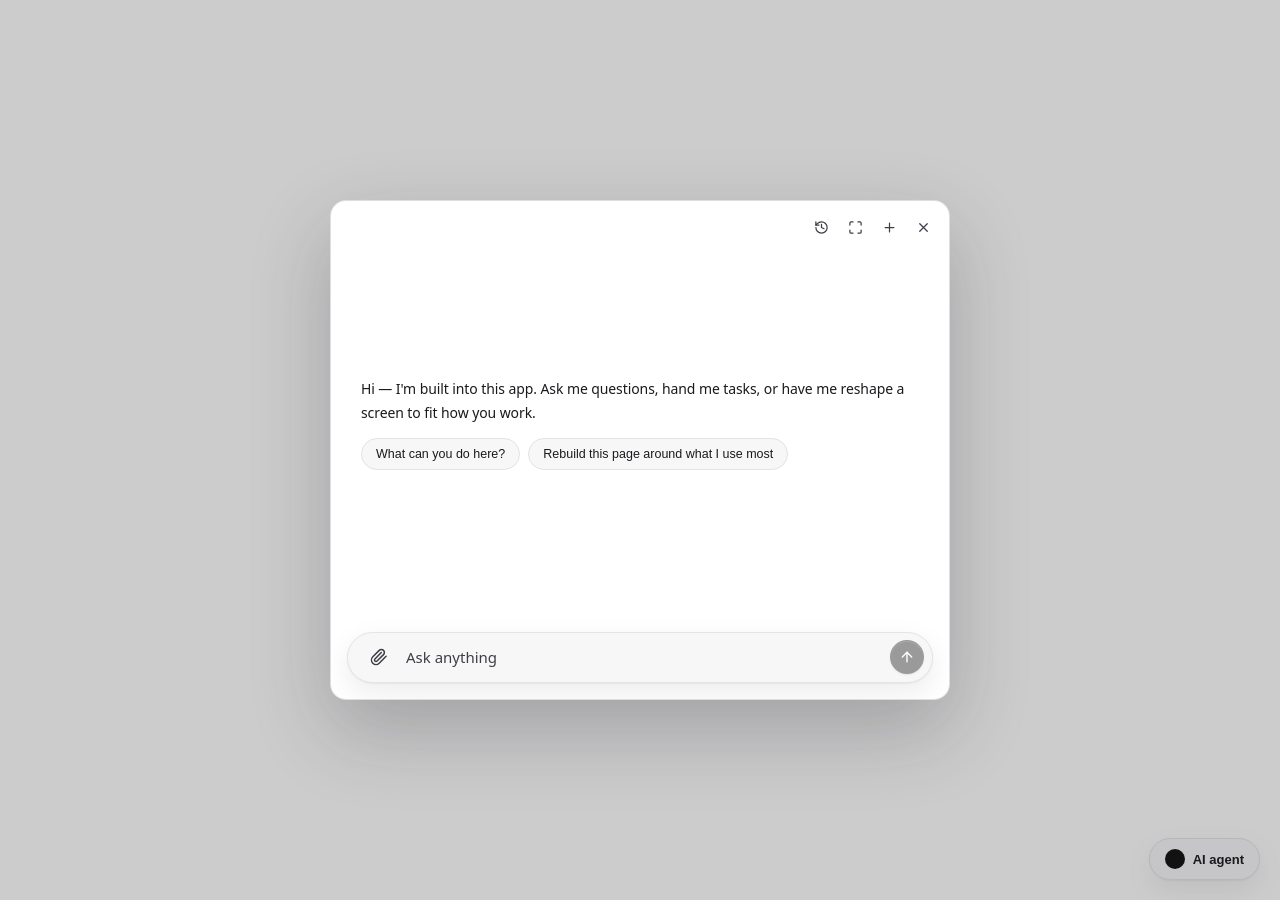
Test case: whisper launcher (ui-usage-dx §6 — ambient discoverability) › does not burn the flag while the overlay is open at mount; arms on close (Devin PR#365)
Check: the text "You can reshape this app" is not shown
Step 1. Click the button named "Close Vendo" → (923, 227), box [909, 213, 937, 241]
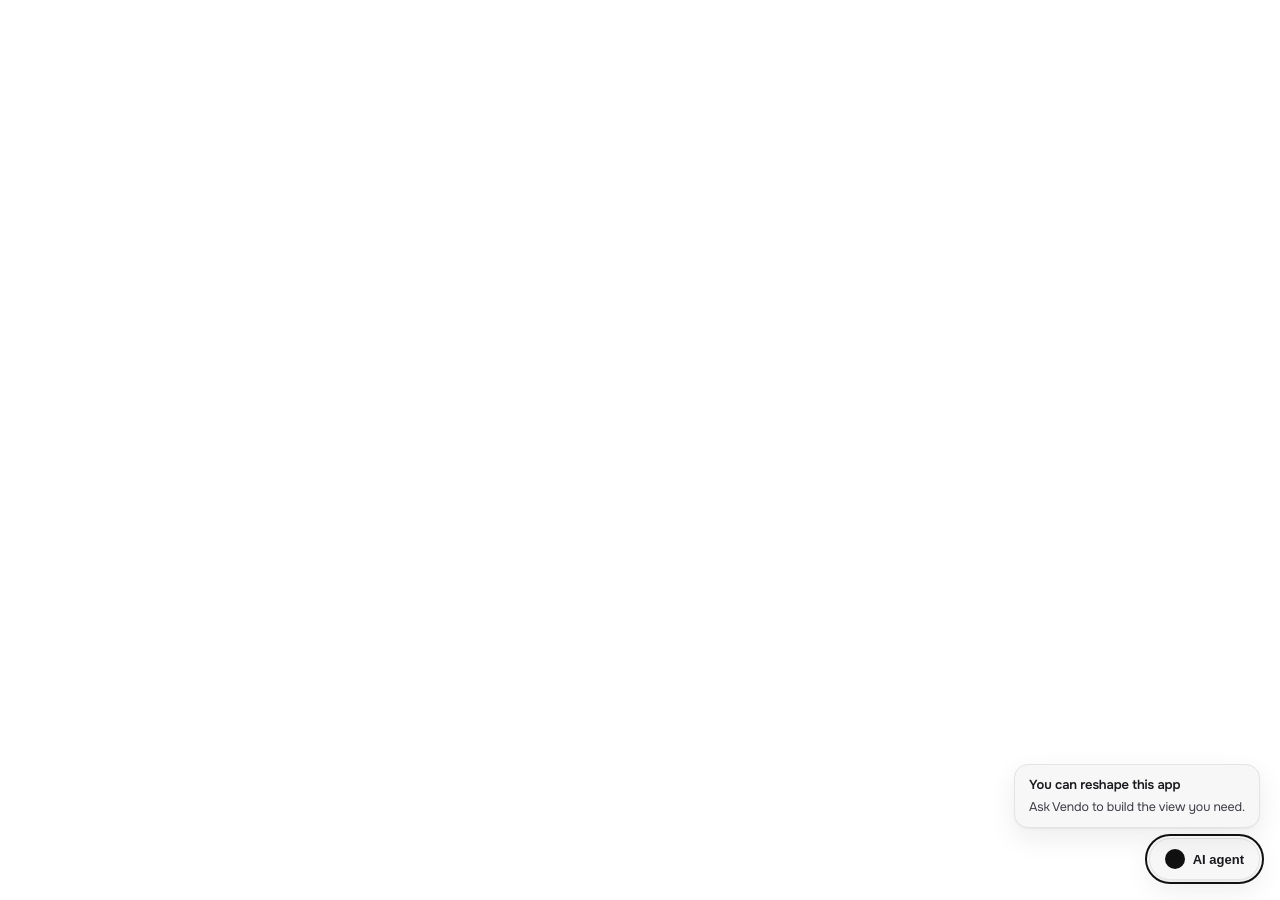
Check: the text "You can reshape this app" is shown, box [1029, 776, 1180, 793]
